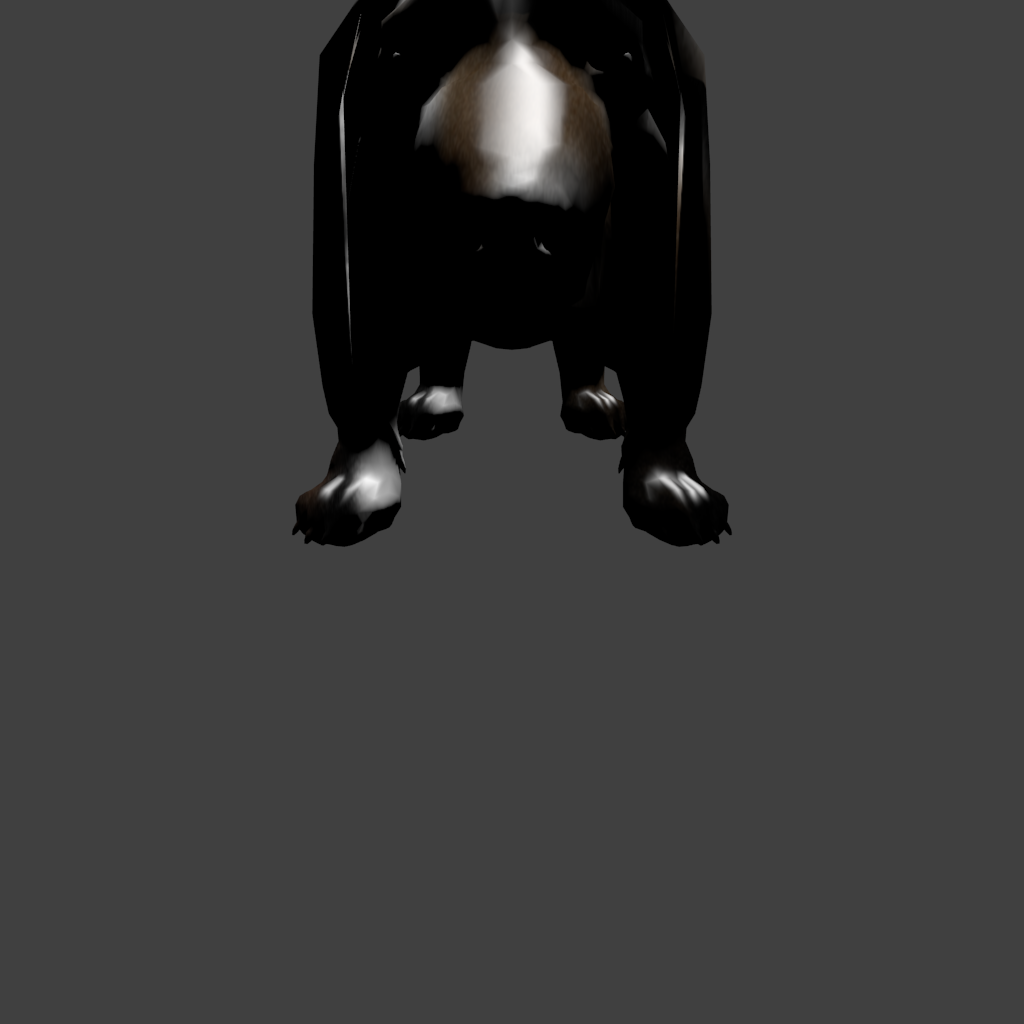Dog: (292, 0, 440, 547)
